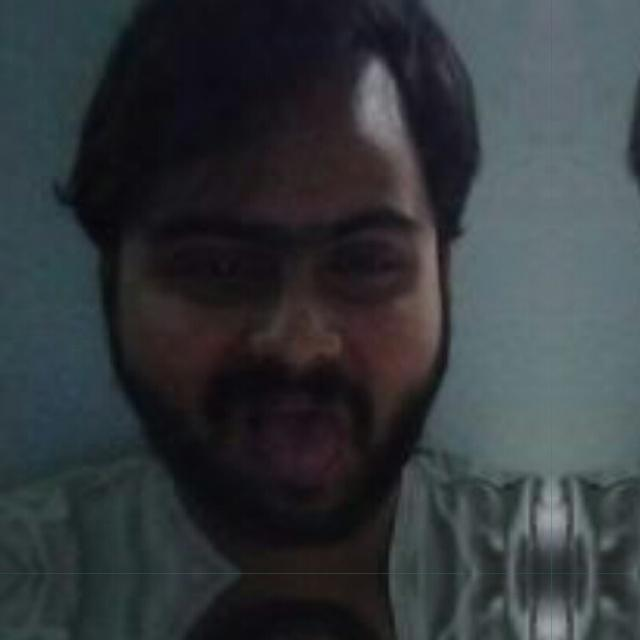Happy: (72, 117, 464, 524)
